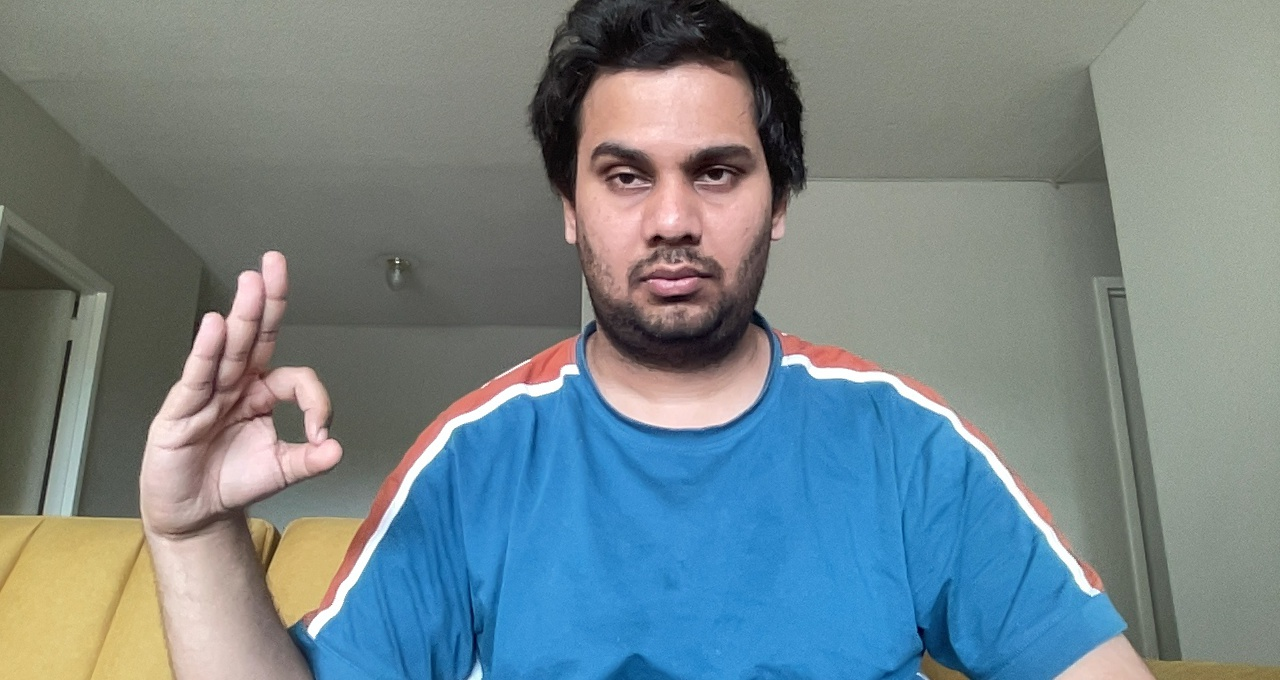ok: (149, 238, 348, 537)
